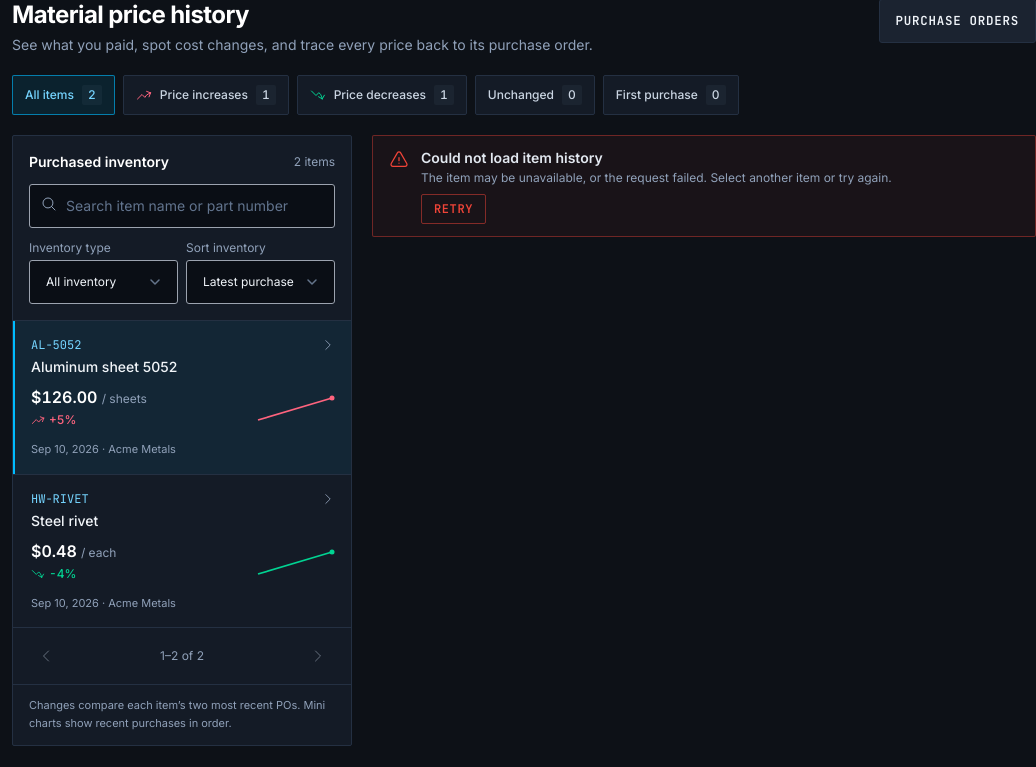
it: a failed detail read can recover without reloading the inventory list
This screenshot has width=1036, height=767.
What coordinates should you click on to do the following:
click the button "Retry"
I would click on:
 (454, 209)
Its box is top-left (421, 194), bottom-right (486, 224).
(page scrolled)
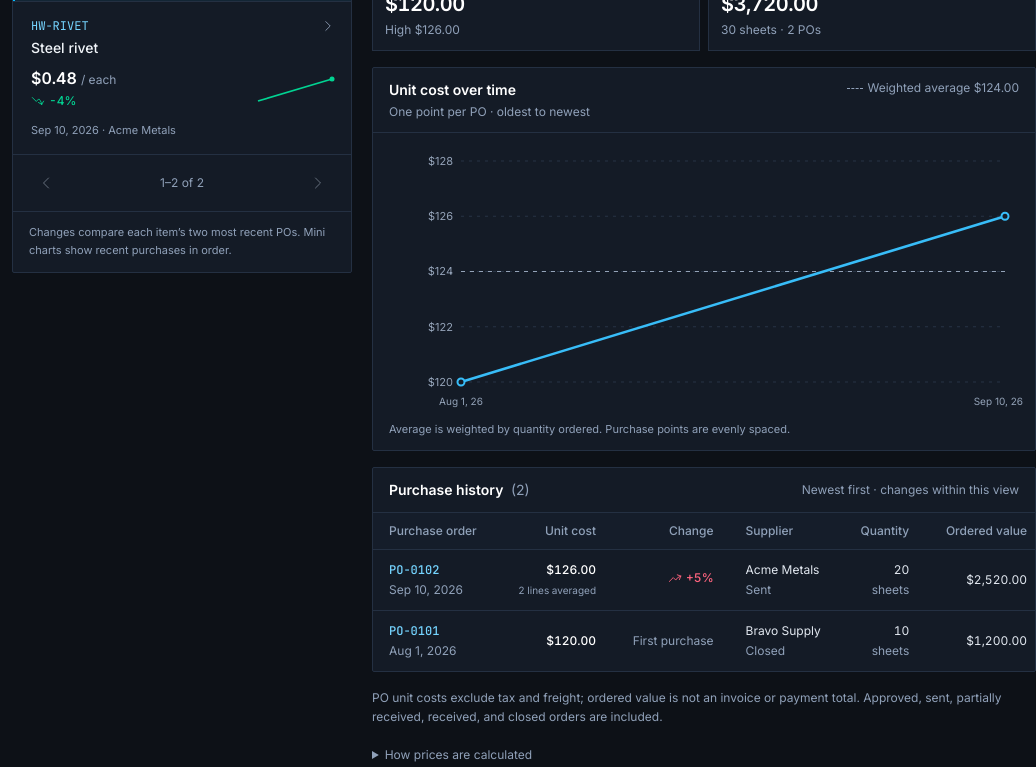
Expected: the link "PO-0102" is shown, top-left (389, 562), bottom-right (439, 578)
